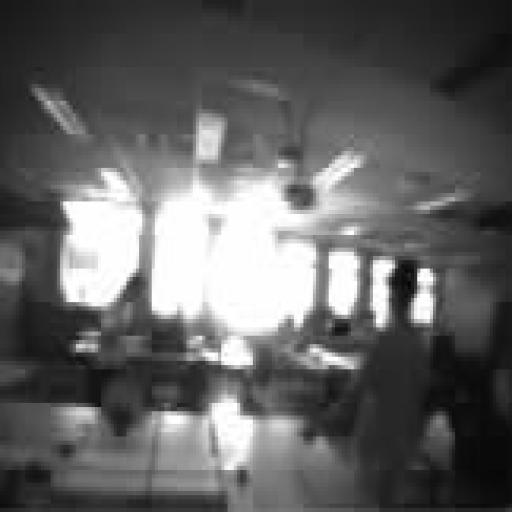human: (304, 261, 429, 507), (92, 273, 151, 402)
